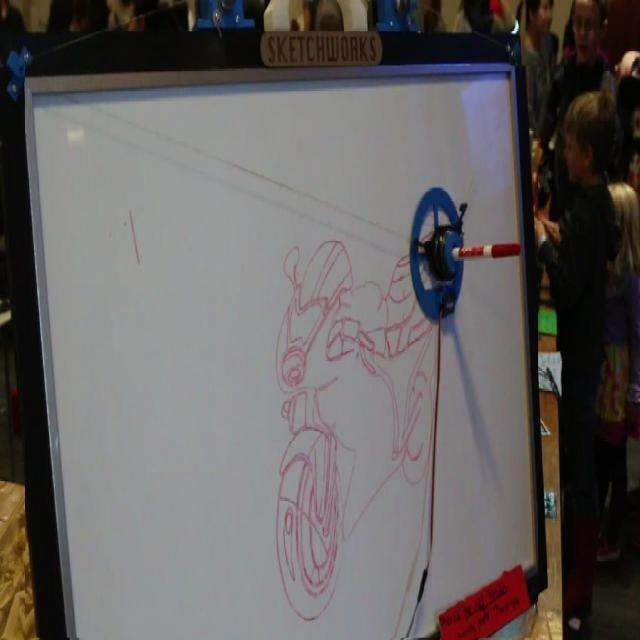Whiteboard: (0, 63, 548, 639)
